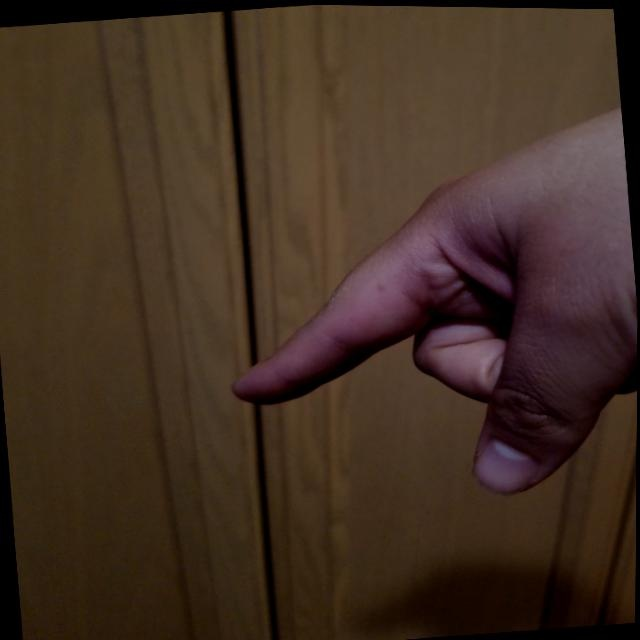Q: (194, 56, 639, 529)
